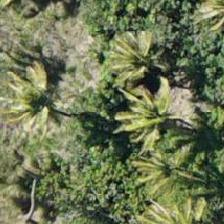coconut_tree: (121, 121, 211, 211), (113, 76, 203, 166), (91, 10, 181, 100), (0, 49, 77, 139), (129, 177, 219, 223)
